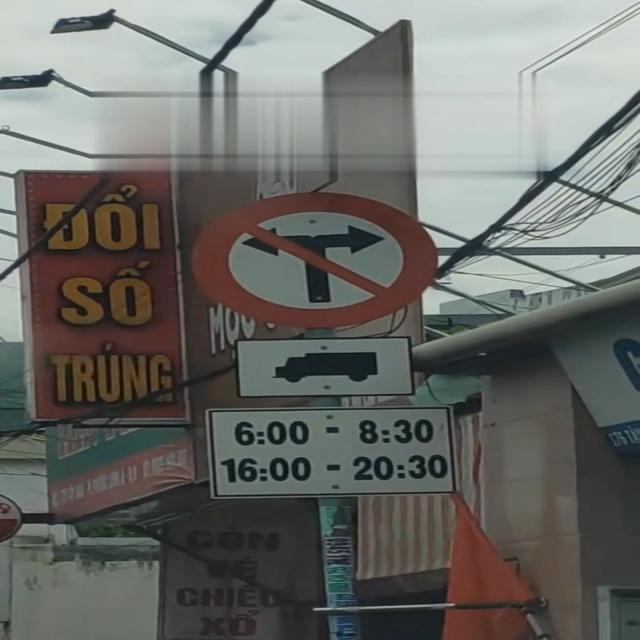137-cam-re-trai-va-re-phai: (193, 190, 439, 326)
